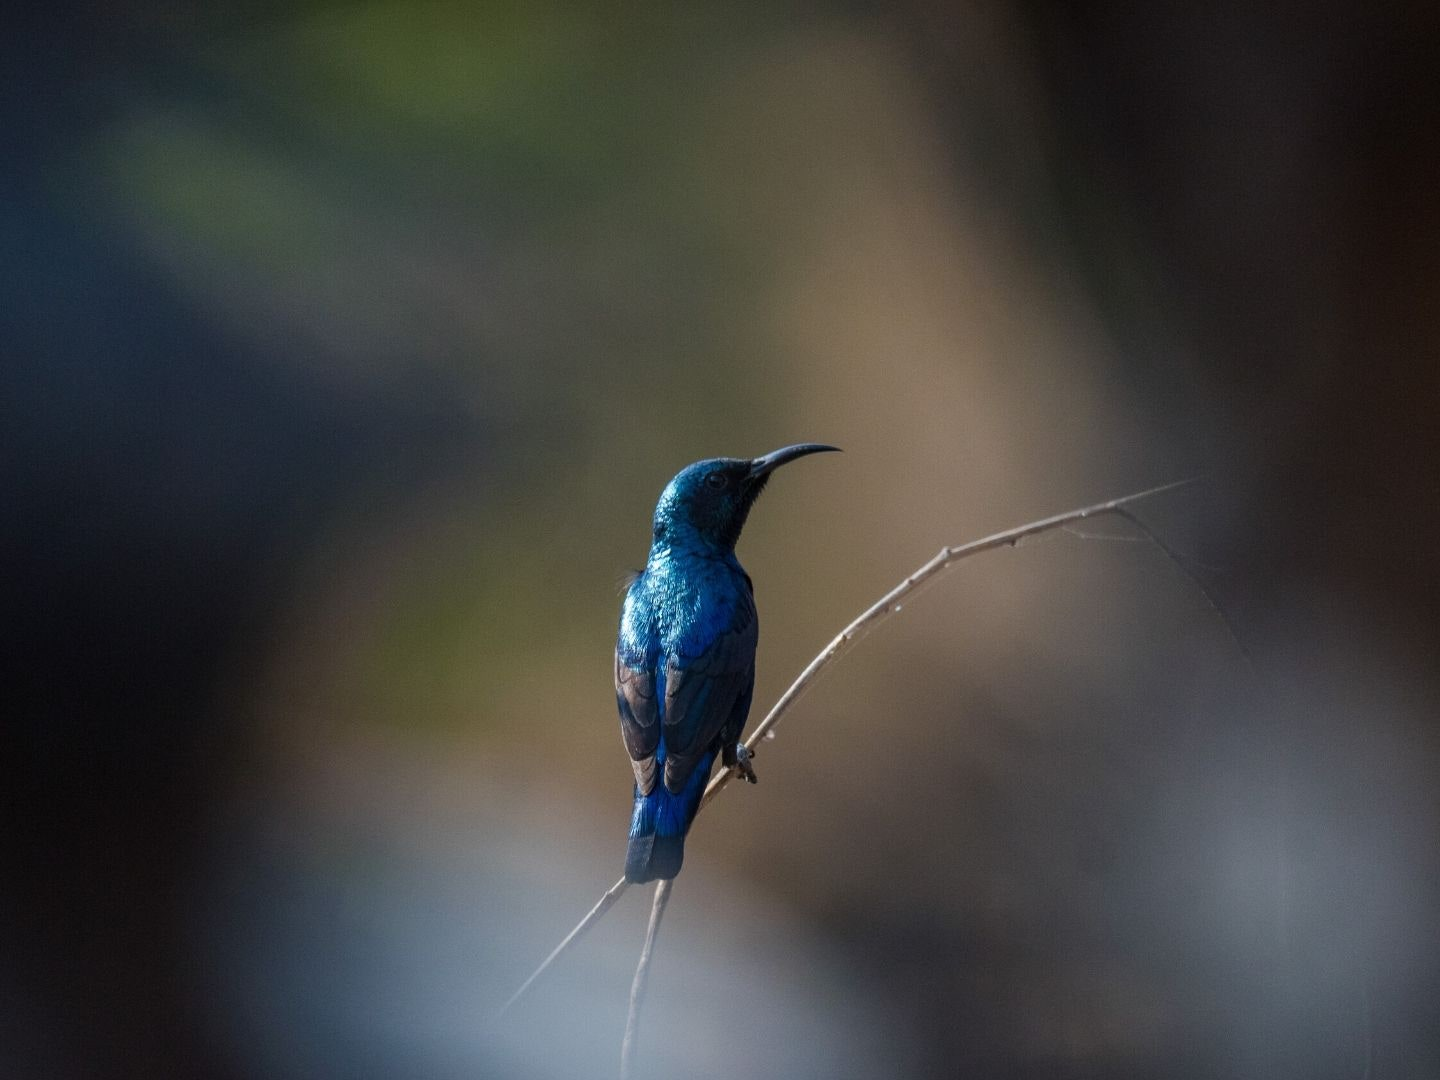bird: (562, 395, 844, 905)
